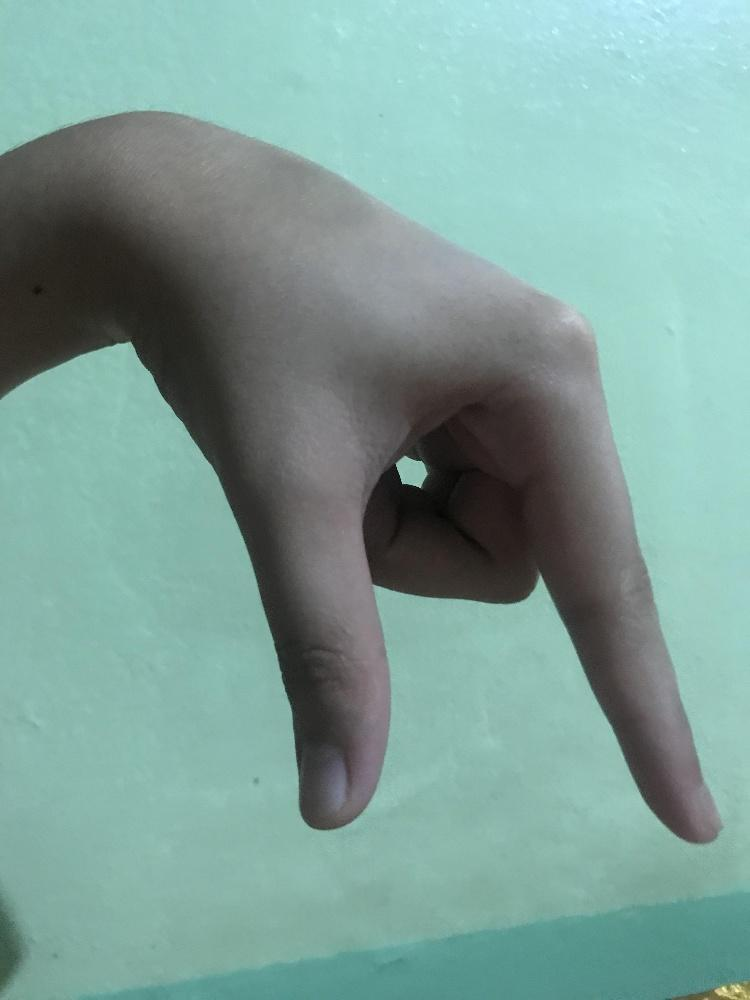q: (135, 102, 727, 853)
